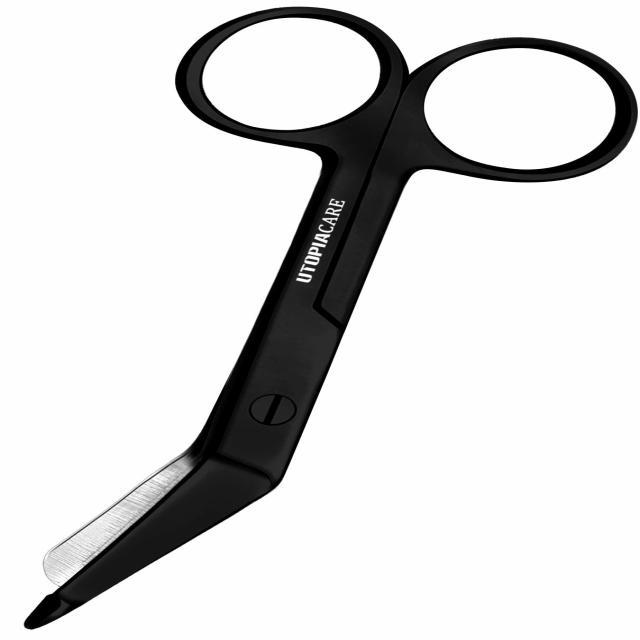scissors: (22, 4, 639, 630)
